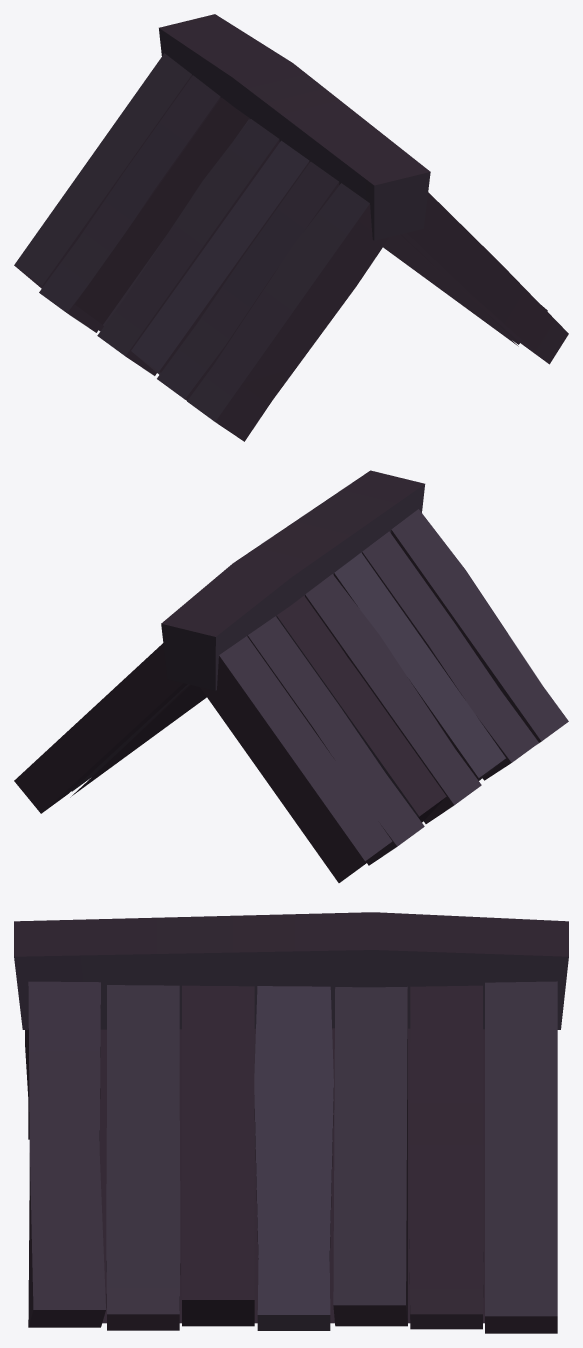
The model's file is Roof02_Black.glb.
3 renders of one model, top to bottom at view 1: azimuth 30°, elevation 25°; view 2: azimuth 150°, elevation 25°; view 3: azimuth 270°, elevation 25°, orthographic. The views are drawn at different scales.
Parts seen in each view (by area): view 1: Roof02_Black; view 2: Roof02_Black; view 3: Roof02_Black.
Part boxes in pixels (bbox=[...]): Roof02_Black: bbox=[14, 14, 568, 441]; Roof02_Black: bbox=[14, 470, 568, 882]; Roof02_Black: bbox=[14, 912, 568, 1333].
Bounding box in the file's own units: 2.41 × 1.49 × 2.46.
Materials: 1 (1 with a texture image).
